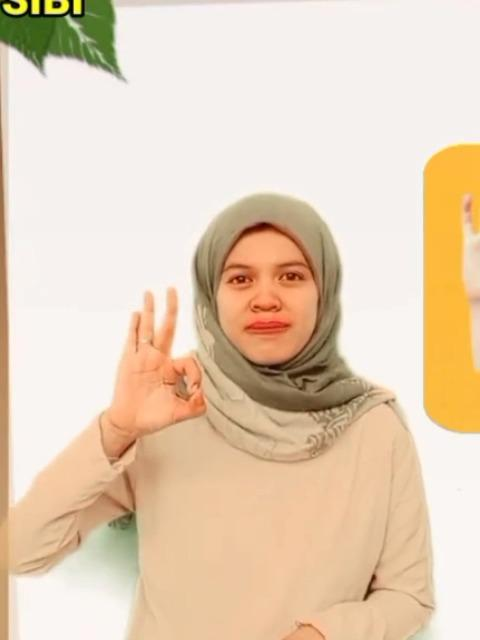F: (114, 282, 210, 436)
